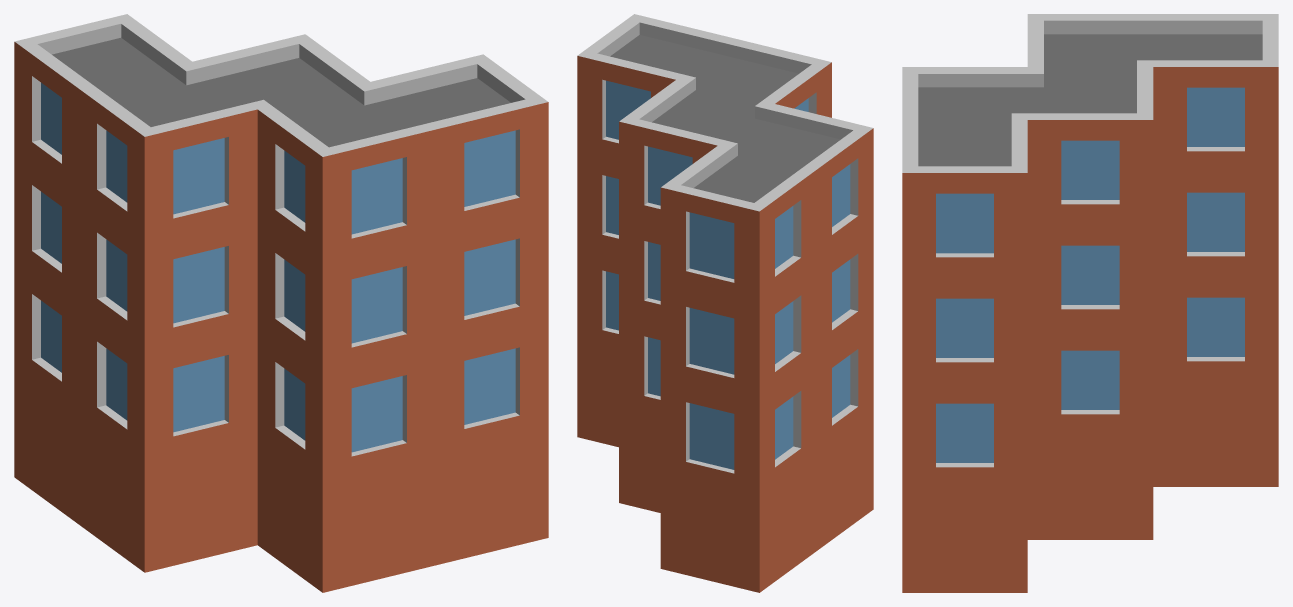
Rendered from building7.fbx.
3 renders of one model, left to right at view 1: azimuth 30°, elevation 25°; view 2: azimuth 150°, elevation 25°; view 3: azimuth 270°, elevation 25°, orthographic. The views are drawn at different scales.
Visible parts, largest first — view 1: polySurface19; view 2: polySurface19; view 3: polySurface19.
Boxes of the visible parts, <box> form: polySurface19: <box>14,14,548,592</box>; polySurface19: <box>577,14,873,592</box>; polySurface19: <box>902,14,1278,592</box>.
Size of the model in its own units: 78.75 by 96.86 by 78.75.
